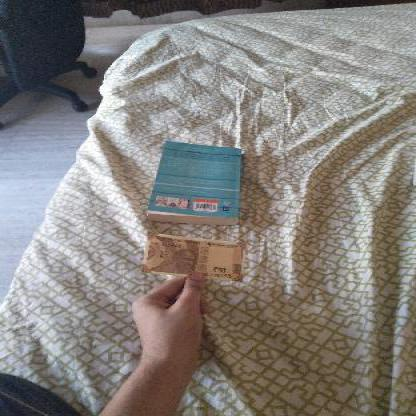New10Front: (147, 233, 249, 277)
